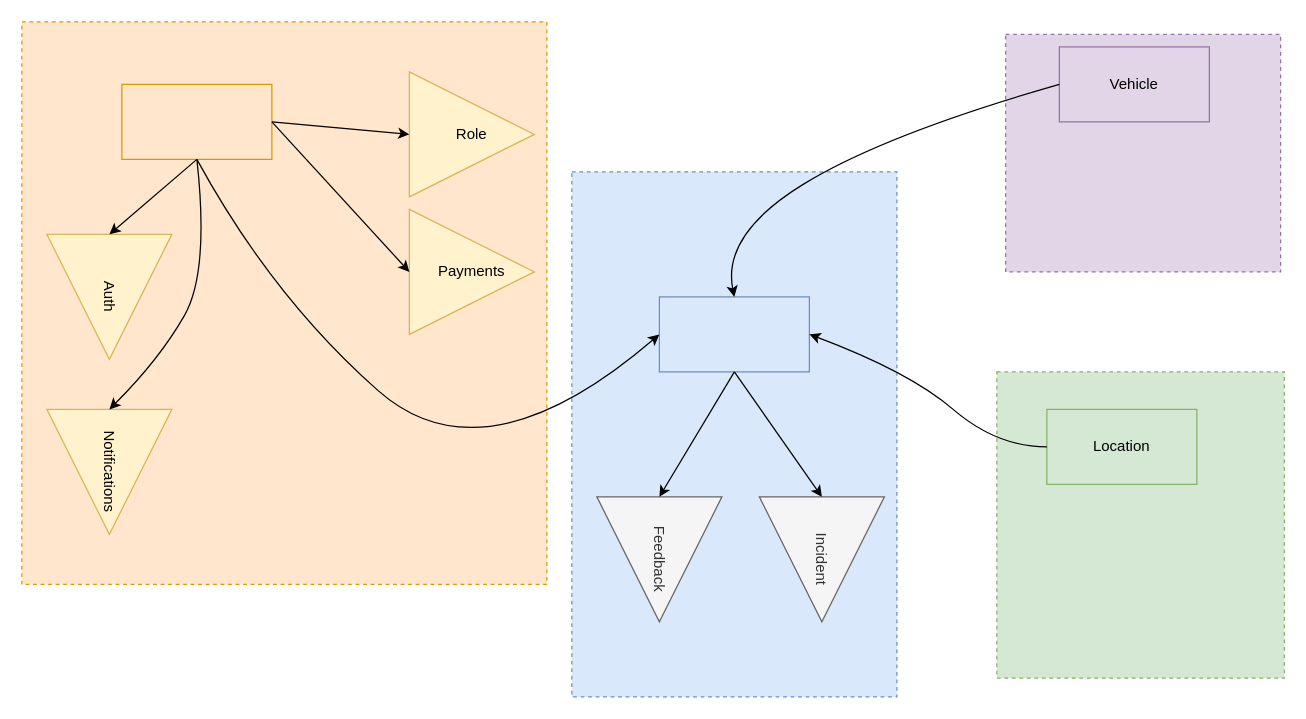
This 1306x719 diagram has some shape labels left out. Each missing label, with the centre of its shape:
Trip: (x=733, y=334)
User: (x=196, y=121)
